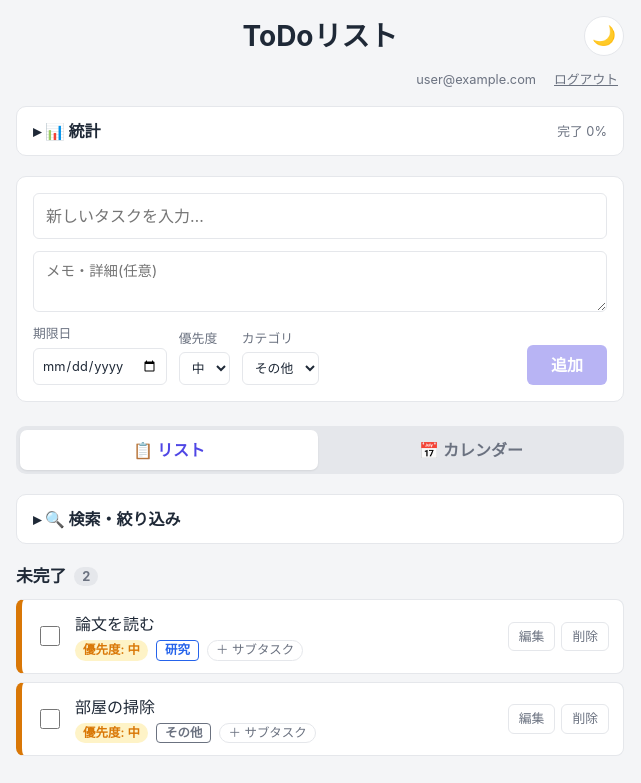
Test case: 折りたたんでも検索・絞り込みは機能する › 条件が効いたまま折りたたむと「絞り込み中」と表示され、一覧は絞り込まれたまま
The image size is (641, 783).
Expected: the button "▸ 📊 統計 完了 0%" is shown, [17,107,623,155]
Expected: the text "絞り込み中" is not shown
Click the button "▸ 🔍 検索・絞り込み".
click(111, 519)  # box [17,495,623,543]
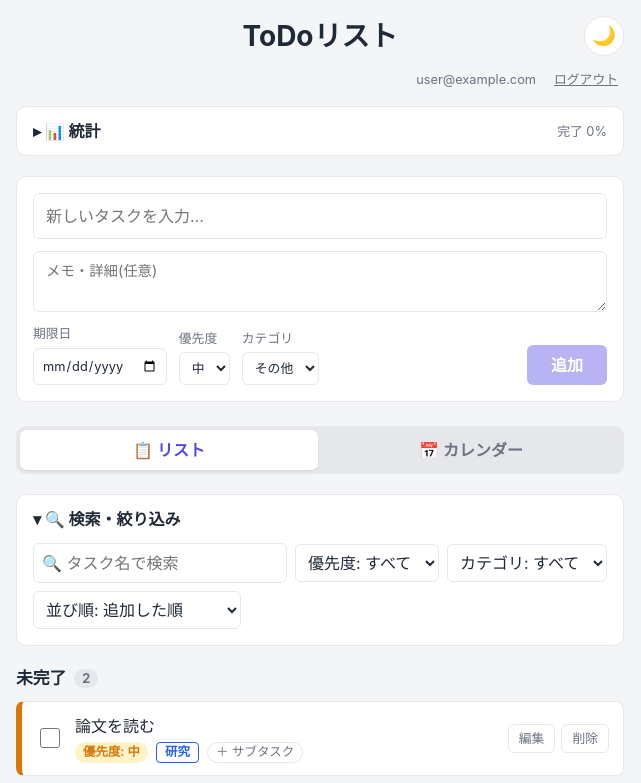
Type "論文" into the search field labelled "タスク名で検索".
click(160, 563); type("論文")  # box [33,543,287,583]
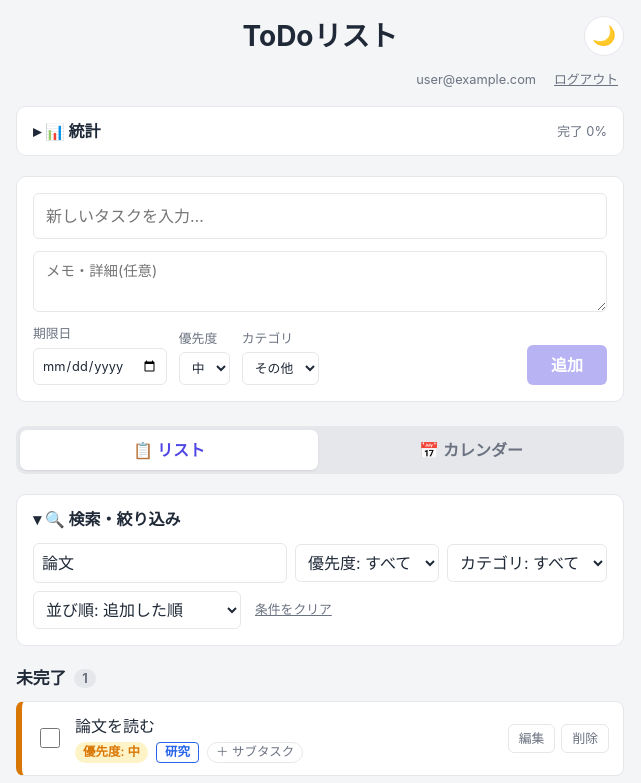
Expected: the text "絞り込み中" is not shown
Click the button "▾ 🔍 検索・絞り込み".
click(111, 519)  # box [17,495,623,543]
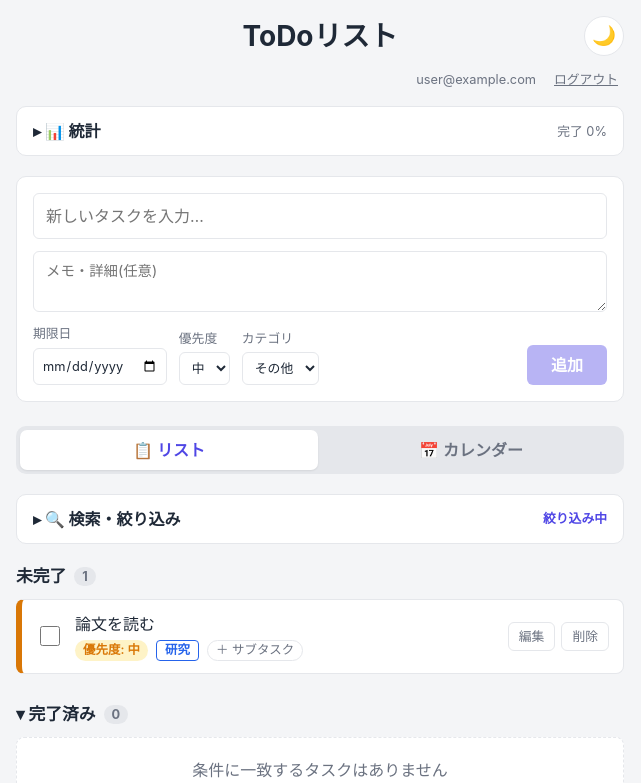
Expected: the text "部屋の掃除" is not shown
Expected: the text "絞り込み中" is shown, [543,509,607,528]
Note: 開き直すと、入力していた条件がそのまま残っている
Click the button "▸ 🔍 検索・絞り込み 絞り込み中".
click(111, 519)  # box [17,495,623,543]
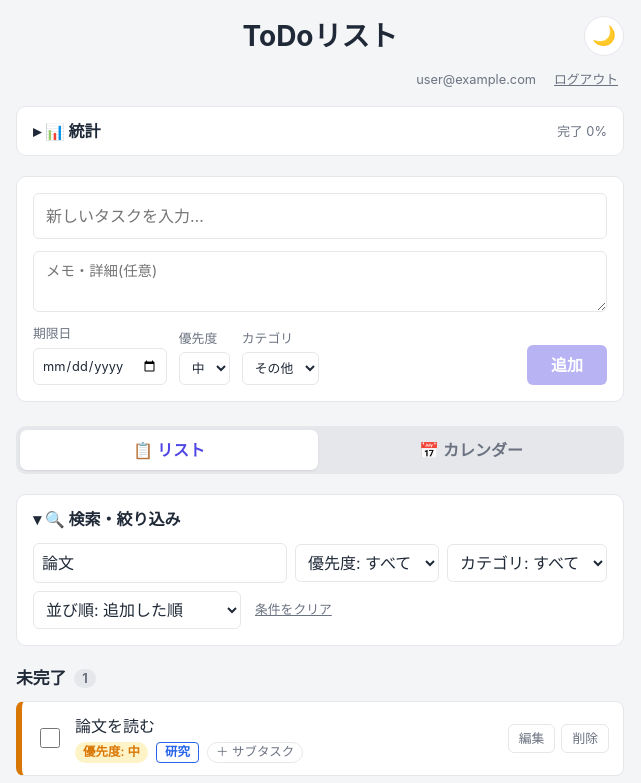
Expected: the search field named "タスク名で検索" holds "論文", [33,543,287,583]
